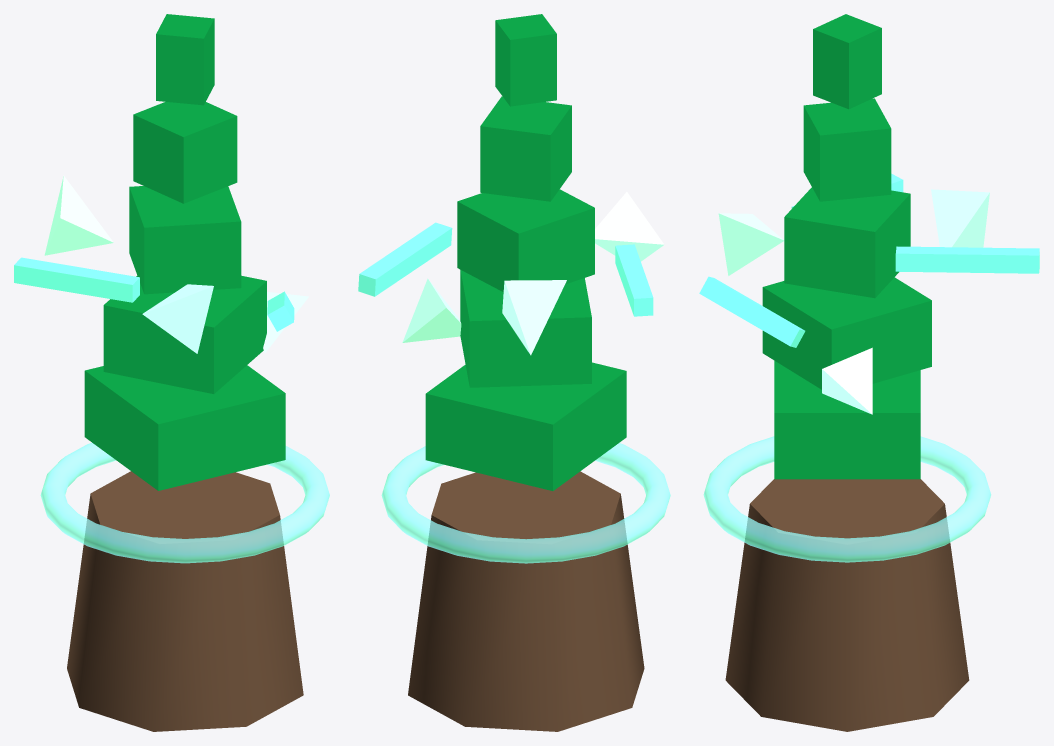
File: growth-planter.high.glb
3 renders of one model, left to right at view 1: azimuth 30°, elevation 25°; view 2: azimuth 150°, elevation 25°; view 3: azimuth 270°, elevation 25°, orthographic.
Visible parts, largest first — view 1: growth-planter-emissive, growth-planter-body, rim, spoke-0; view 2: growth-planter-emissive, growth-planter-body, spoke-0, rim; view 3: growth-planter-body, growth-planter-emissive, spoke-0, rim.
Part boxes in pixels (x1=…): growth-planter-emissive: x1=84, y1=14, x2=285, y2=490; growth-planter-body: x1=67, y1=471, x2=303, y2=731; rim: x1=40, y1=443, x2=329, y2=563; spoke-0: x1=14, y1=175, x2=308, y2=353; growth-planter-emissive: x1=425, y1=14, x2=626, y2=490; growth-planter-body: x1=408, y1=471, x2=644, y2=731; spoke-0: x1=358, y1=192, x2=664, y2=355; rim: x1=381, y1=443, x2=670, y2=563; growth-planter-body: x1=725, y1=479, x2=969, y2=731; growth-planter-emissive: x1=762, y1=14, x2=931, y2=479; spoke-0: x1=699, y1=173, x2=1039, y2=414; rim: x1=703, y1=436, x2=991, y2=562.
Bounding box in the file's own units: 1.29 × 2.95 × 1.4.
4 materials, 4 textured.
